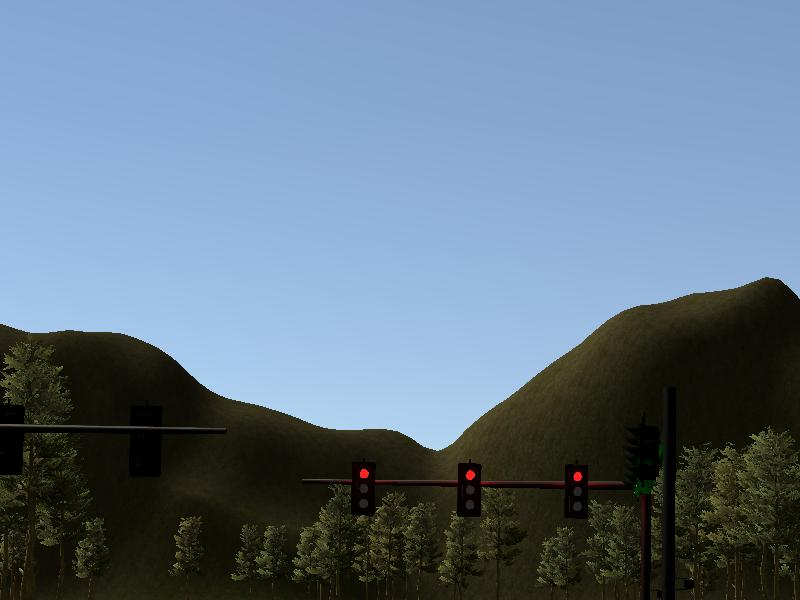Red: (457, 460, 483, 517), (352, 461, 376, 514), (566, 463, 588, 516)
